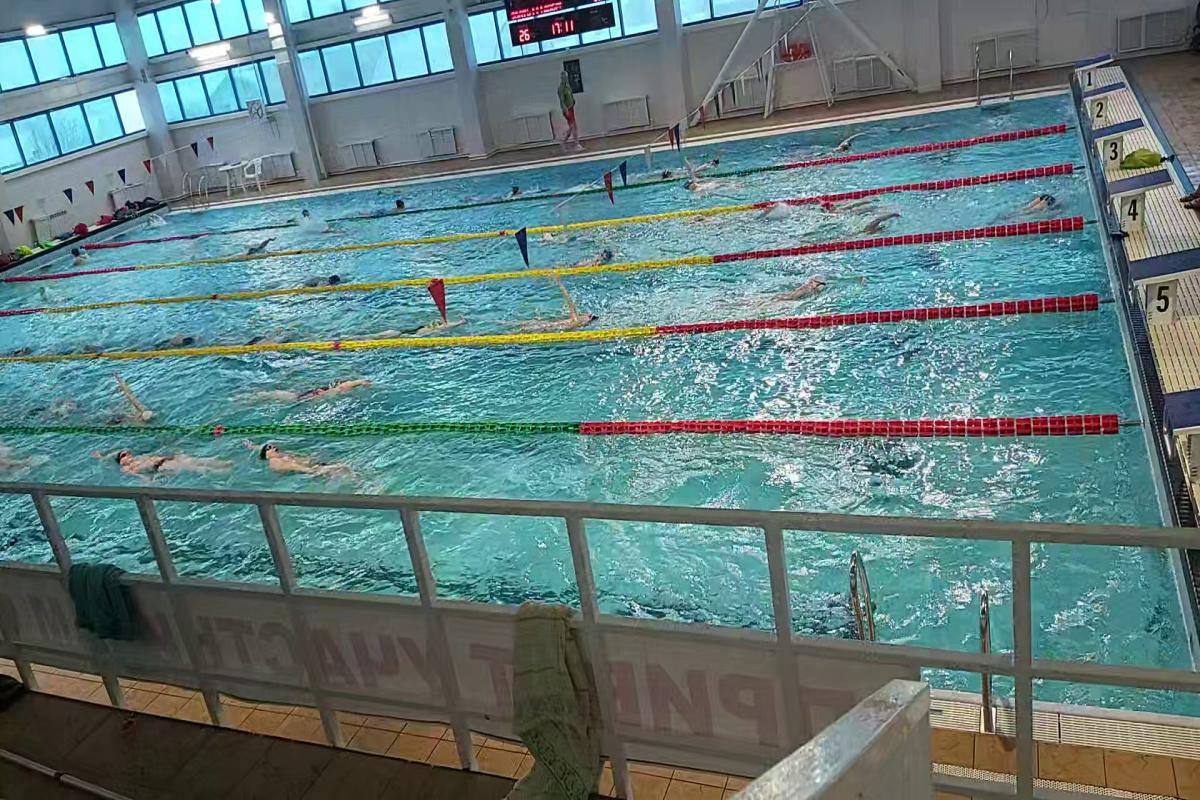swimmer: (232, 431, 359, 482), (92, 437, 235, 481), (238, 367, 376, 407), (497, 292, 605, 332), (741, 275, 834, 314), (100, 380, 167, 424), (347, 314, 470, 336), (991, 187, 1068, 221), (218, 325, 311, 344), (679, 172, 744, 195), (847, 214, 903, 239), (152, 323, 209, 347), (572, 242, 622, 268), (814, 196, 879, 213), (300, 270, 352, 287), (240, 235, 282, 253)
